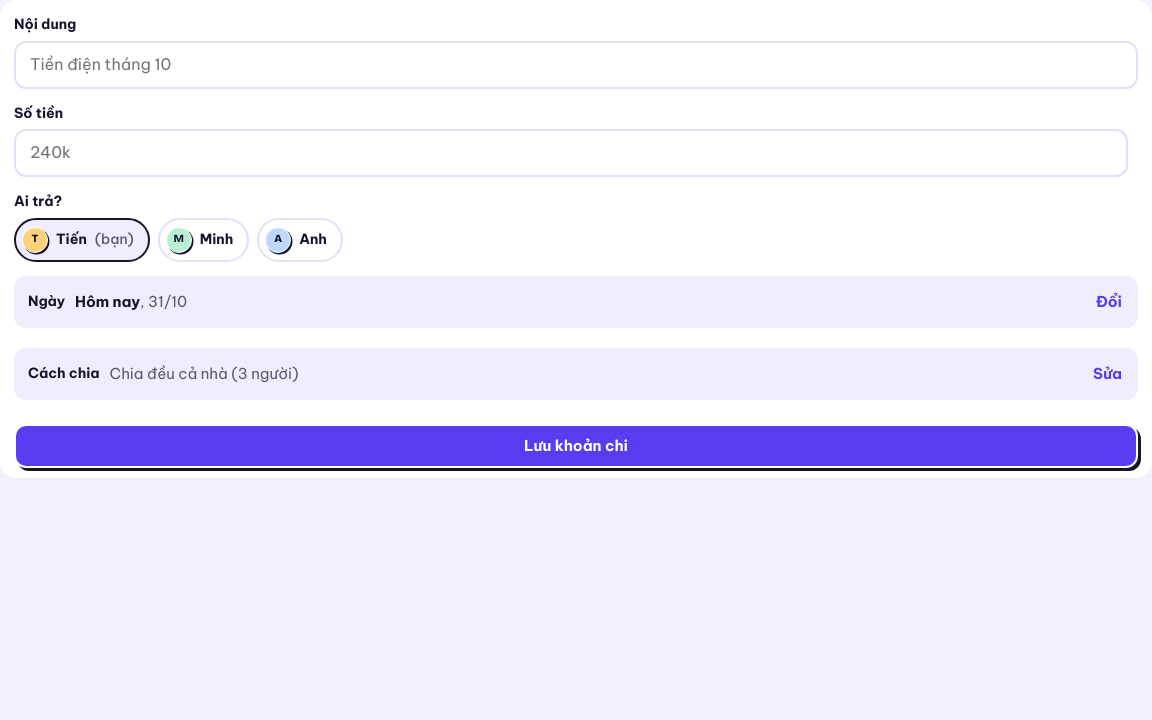
Test: ExpenseForm, the 90% case › a year outside 2000-2099 is refused under the date, before the API (T-25)
The width and height of the screenshot is (1152, 720).
Type "Tiền điện" into the field labelled "Nội dung".
click(576, 65); type("Tiền điện")  # box x1=14 y1=41 x2=1138 y2=89
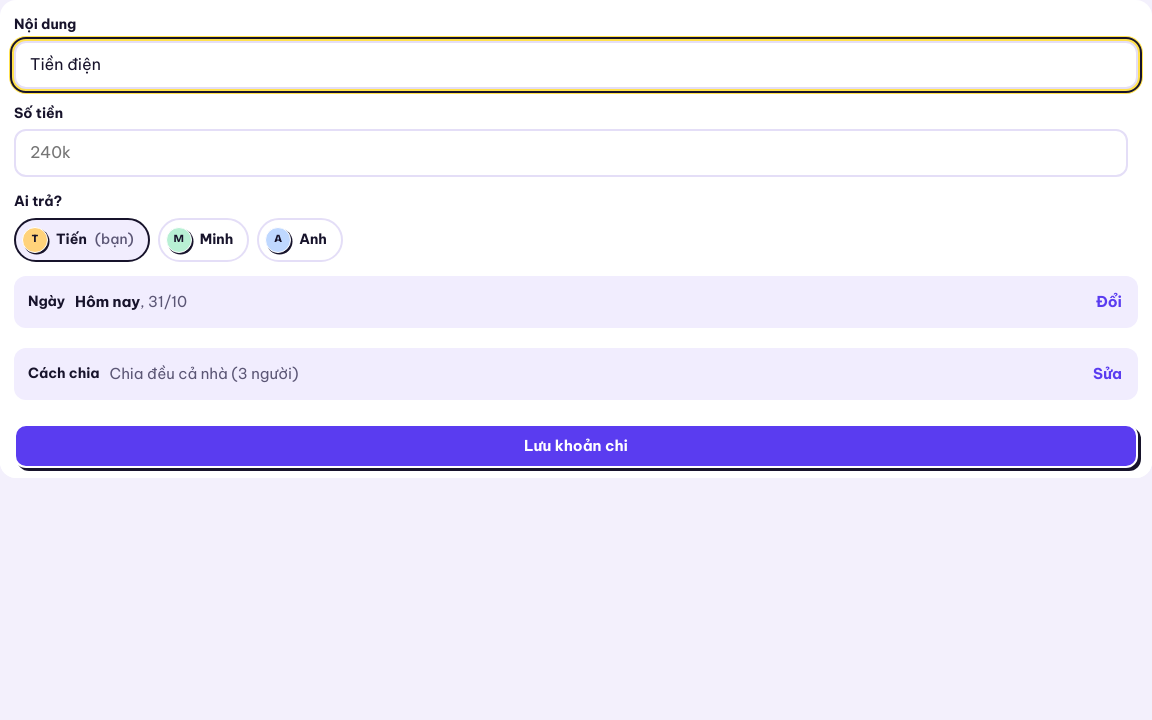
Type "100000" into the field labelled "Số tiền".
click(571, 153); type("100000")  # box x1=14 y1=129 x2=1128 y2=177
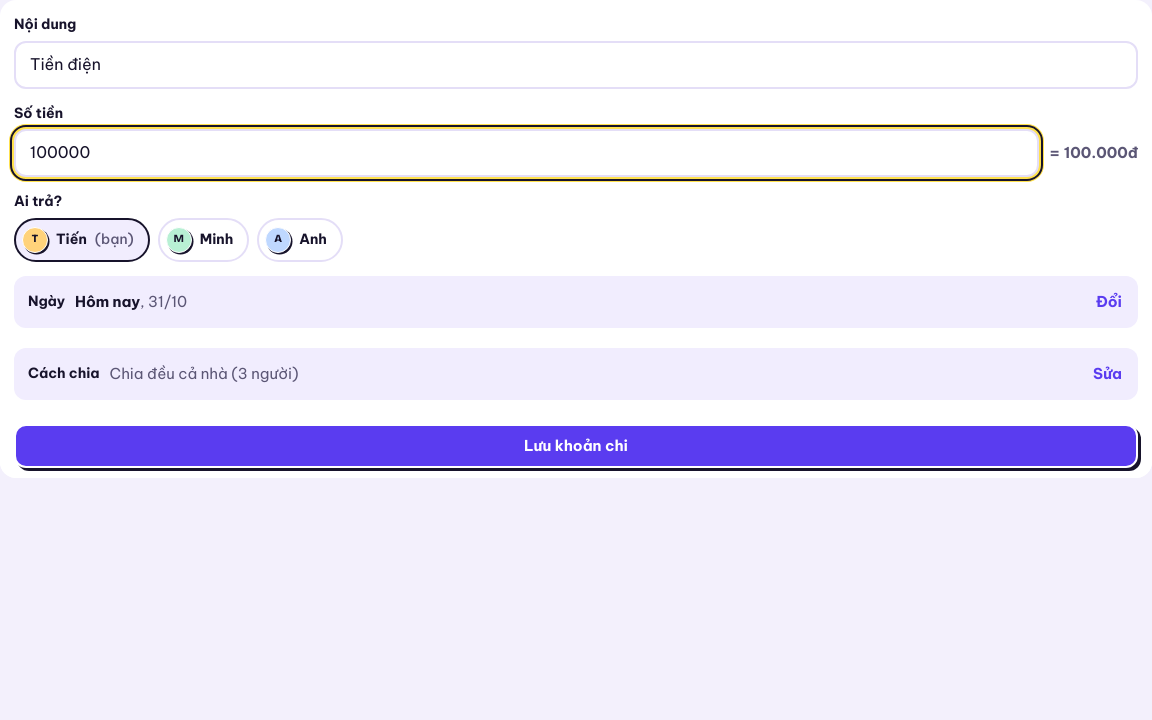
Click the button with aria-label "Đổi ngày".
click(1109, 302)  # box x1=1084 y1=280 x2=1134 y2=324
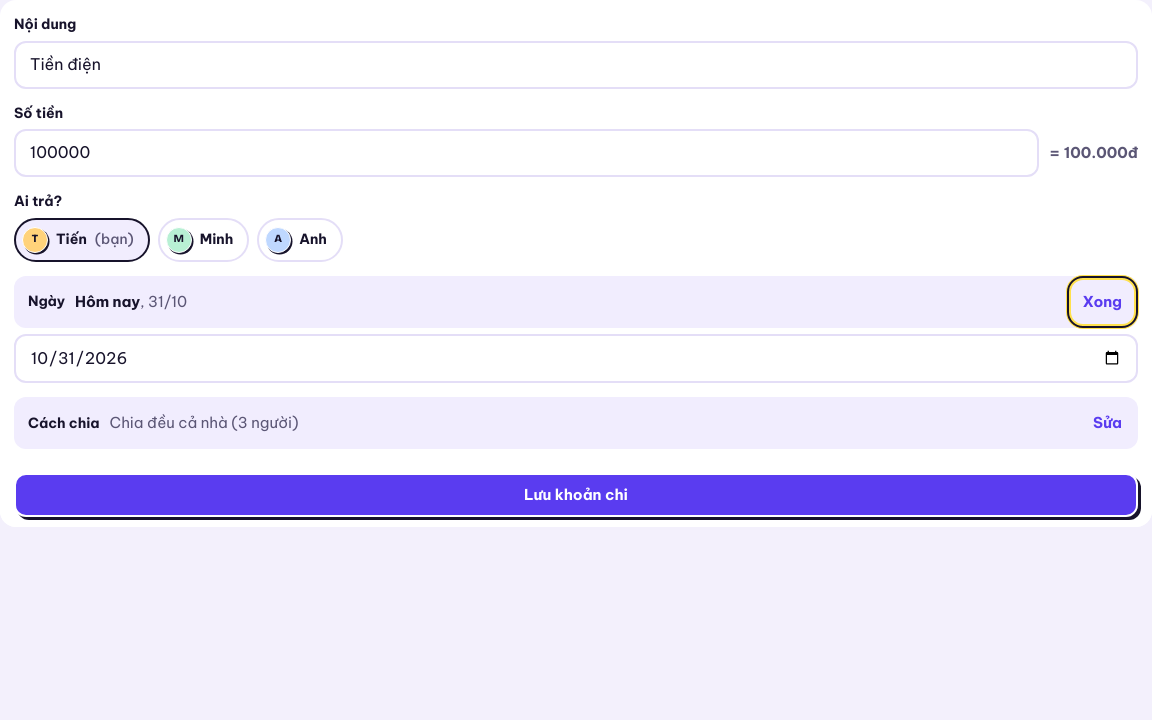
Type "1999-12-31" into the date field labelled "Ngày".
click(576, 358); type("1999-12-31")  # box x1=14 y1=334 x2=1138 y2=383
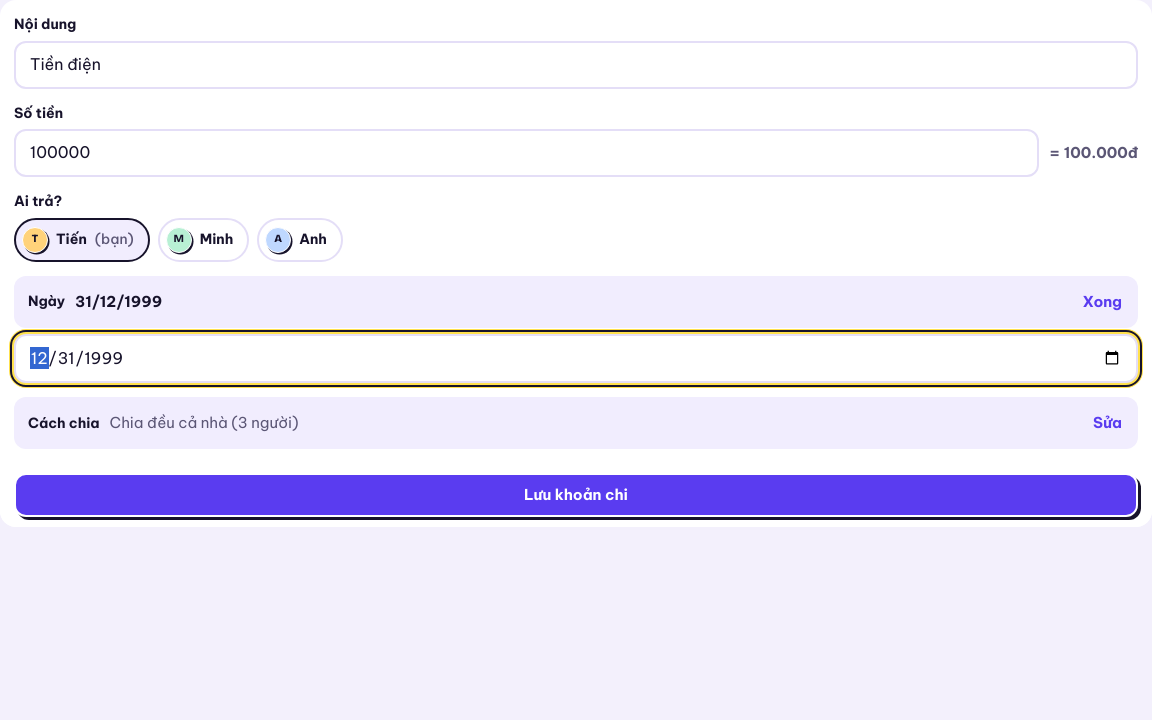
Click the button "Lưu khoản chi".
click(576, 495)  # box x1=14 y1=473 x2=1138 y2=517
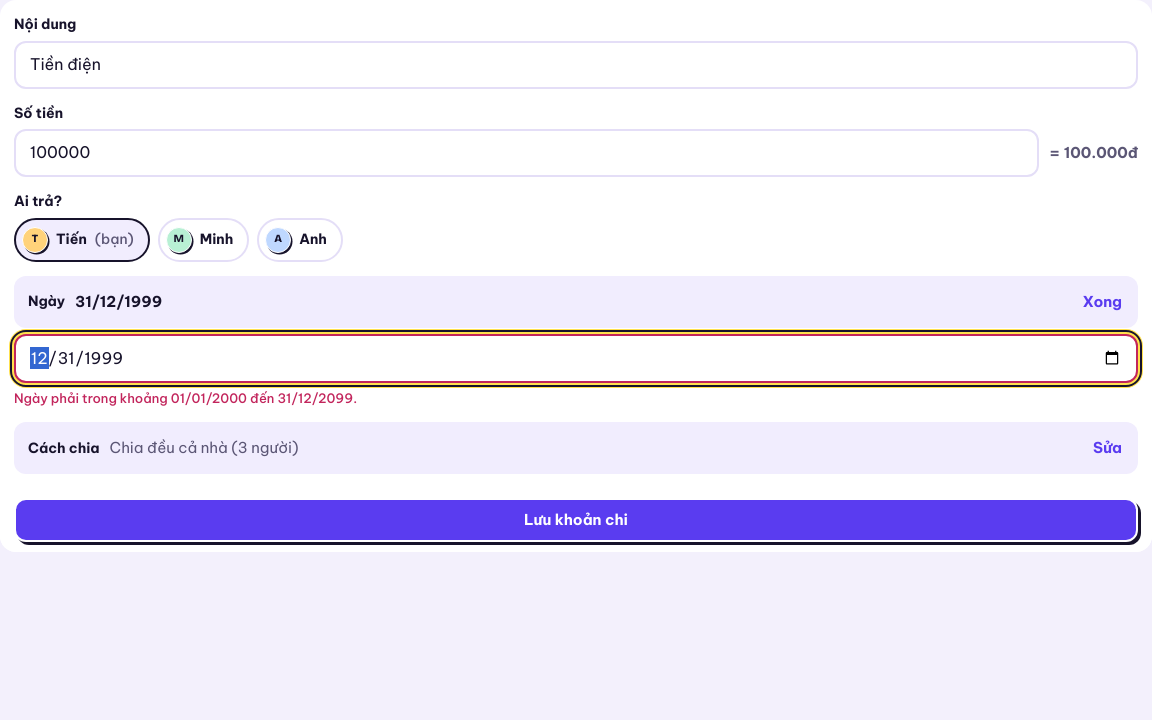
expect the text "Ngày phải trong khoảng 01/01/2000 đến 31/12/2099." is shown: met, box x1=14 y1=390 x2=357 y2=406
